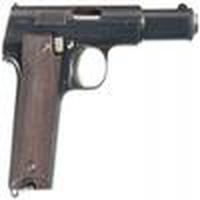gun: (1, 9, 190, 189)
